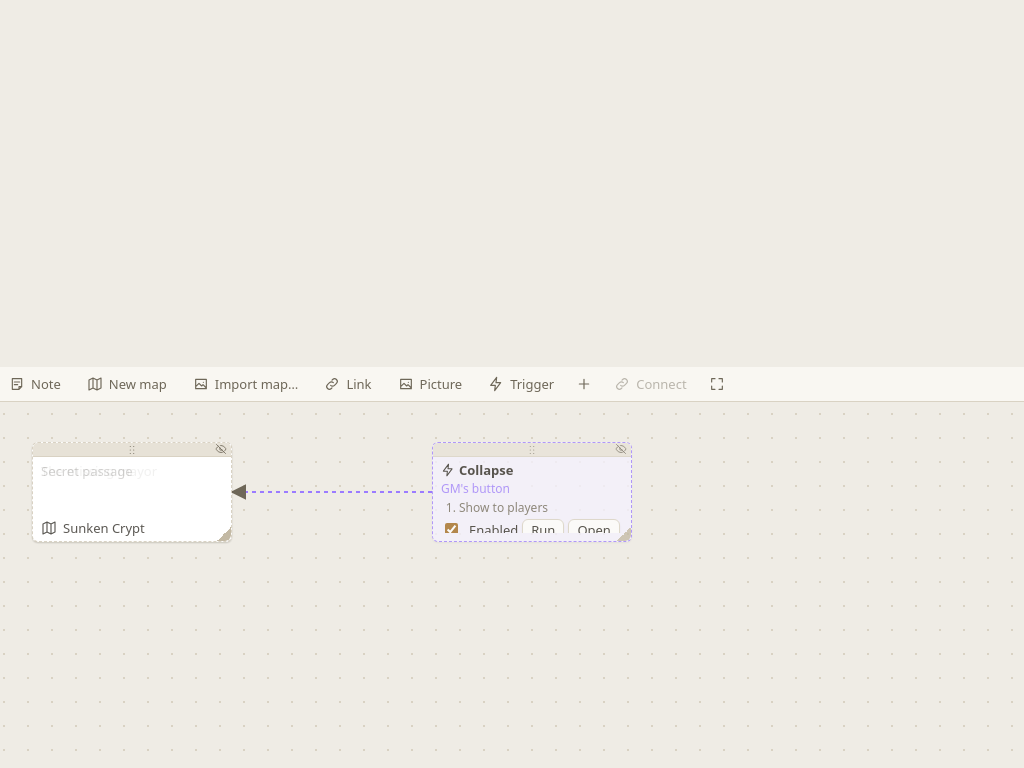
Test: BoardView › GM roles pick a link in the selection form and it becomes a card
This screenshot has width=1024, height=768.
(page scrolled)
Click the button "Link" at (348, 384), box 315,371 -> 381,397
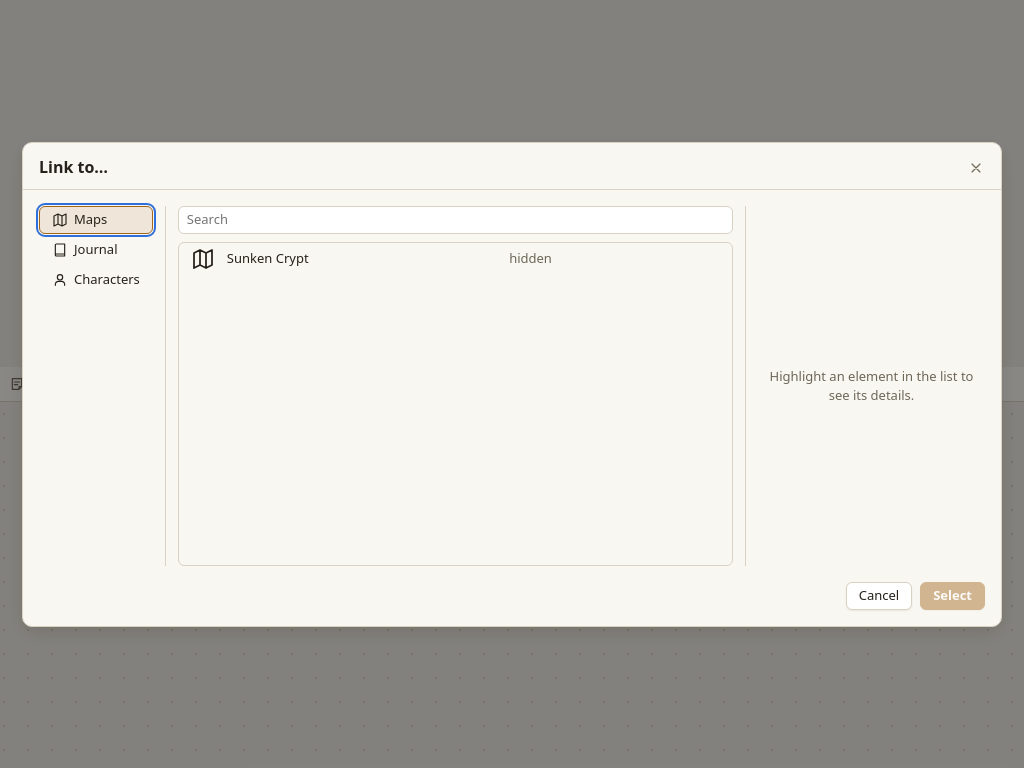
Type "crypt" into the search field at (455, 220), box 178,206 -> 733,234
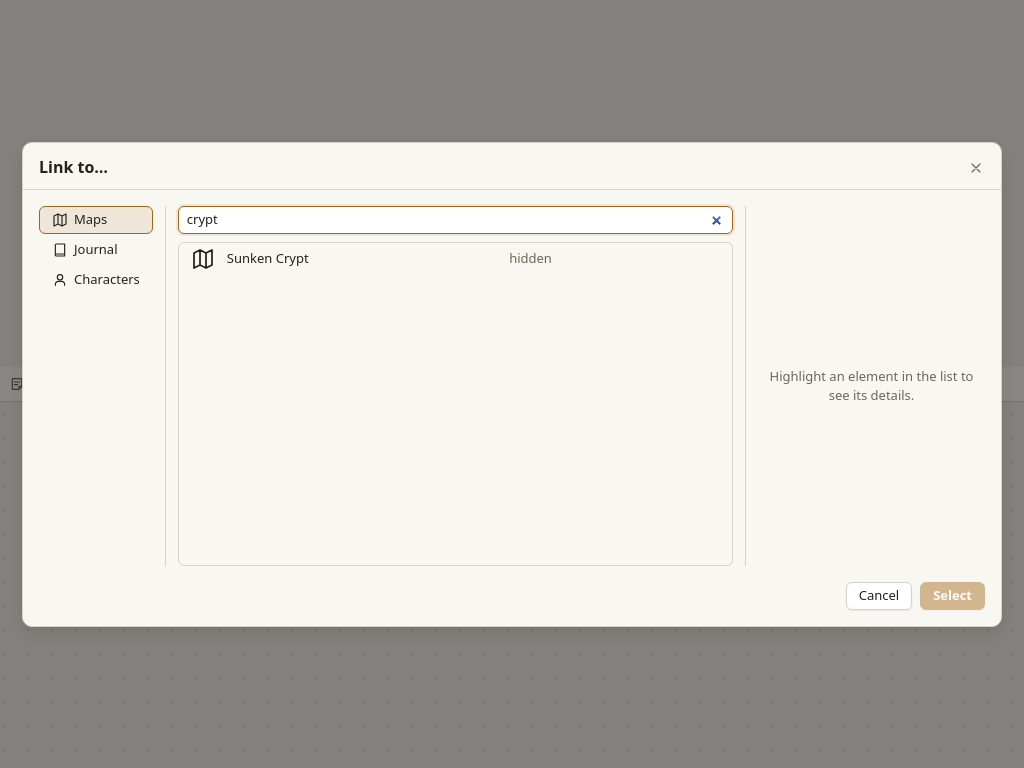
Double-click the option "Sunken Crypt hidden" at (203, 258), box 187,246 -> 552,270
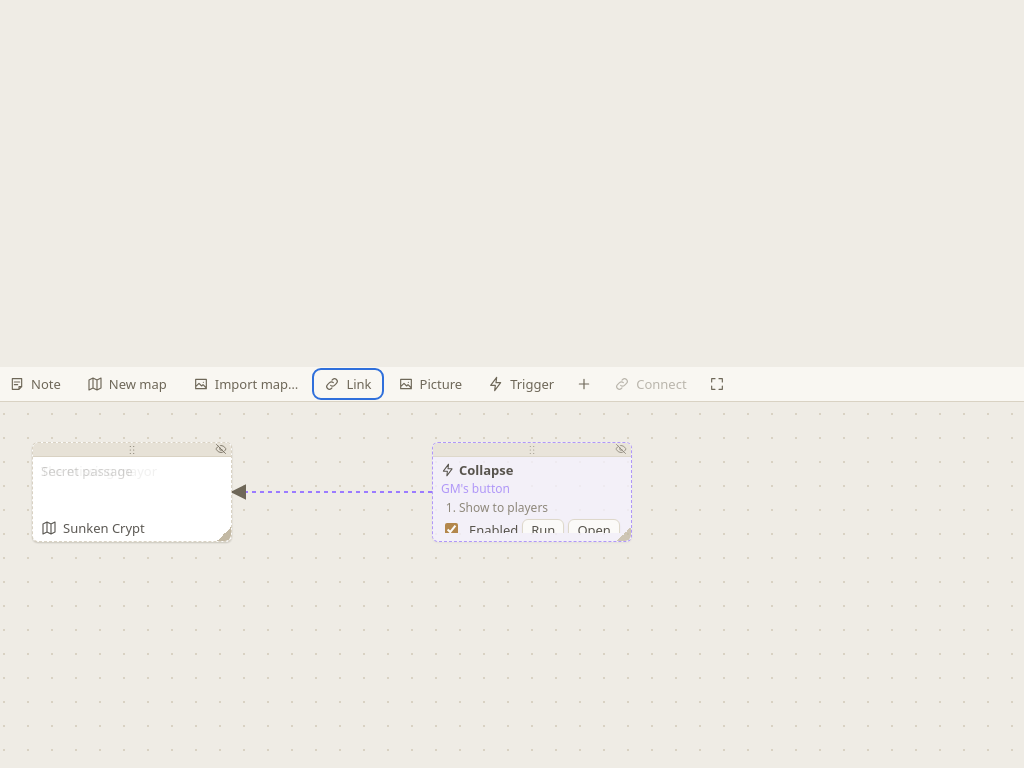
Check: the dialog is gone
